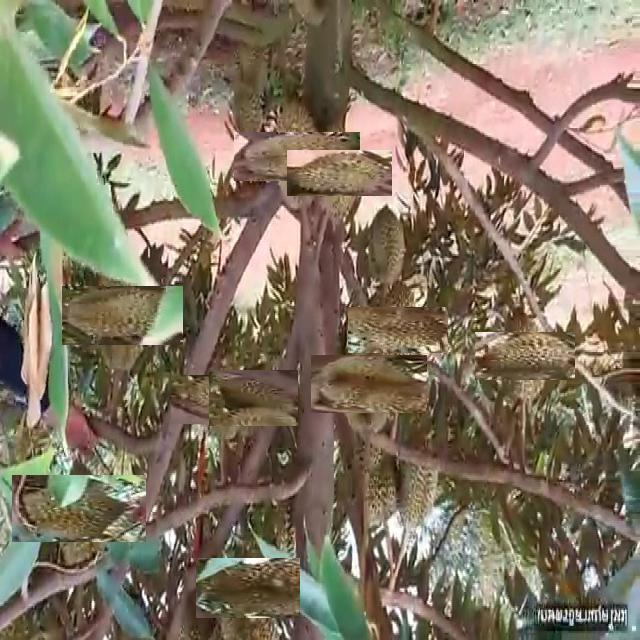durian: (28, 459, 130, 559), (78, 270, 168, 361), (253, 113, 341, 201), (326, 340, 413, 428), (206, 546, 290, 629), (301, 135, 377, 211), (356, 414, 401, 539), (183, 362, 258, 437), (488, 318, 562, 393), (362, 293, 435, 367), (217, 361, 290, 434), (396, 435, 442, 530), (364, 202, 408, 295)
